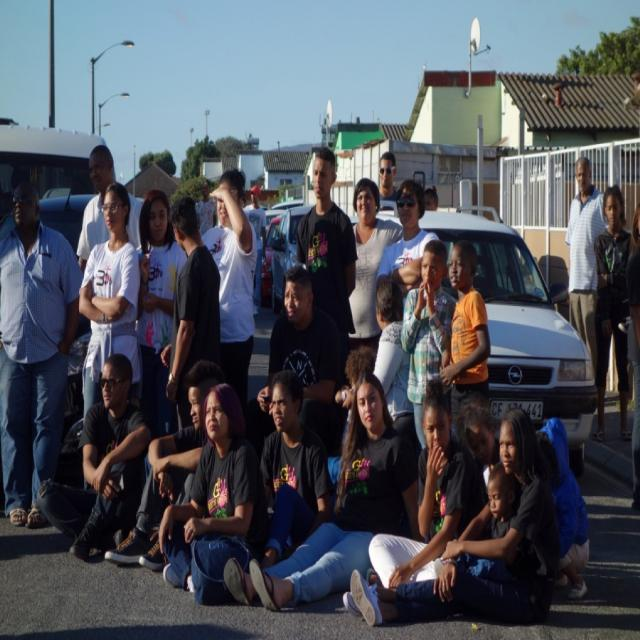body: (219, 369, 435, 616), (341, 406, 560, 630), (0, 177, 85, 531), (155, 378, 275, 600), (367, 377, 490, 592), (103, 357, 222, 574), (35, 351, 151, 564), (76, 179, 144, 494), (242, 262, 344, 461), (340, 272, 422, 497), (252, 368, 334, 571), (295, 146, 359, 386), (433, 454, 535, 600), (200, 167, 259, 414), (159, 195, 221, 430), (134, 187, 190, 436), (588, 180, 638, 449), (563, 153, 615, 410), (400, 237, 459, 455), (438, 238, 491, 452), (535, 416, 593, 602), (345, 175, 404, 354), (76, 144, 144, 276), (375, 177, 442, 302), (334, 342, 378, 460), (370, 147, 443, 212), (626, 205, 640, 511), (242, 183, 268, 320), (454, 399, 500, 467), (194, 179, 218, 238)
